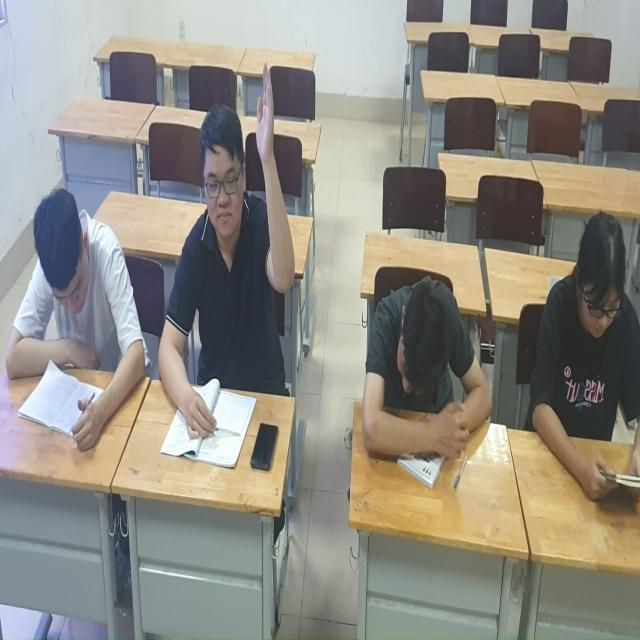raise_hand: (152, 57, 299, 445)
read: (6, 155, 156, 460), (529, 204, 640, 517)
sleep: (352, 269, 502, 498)
